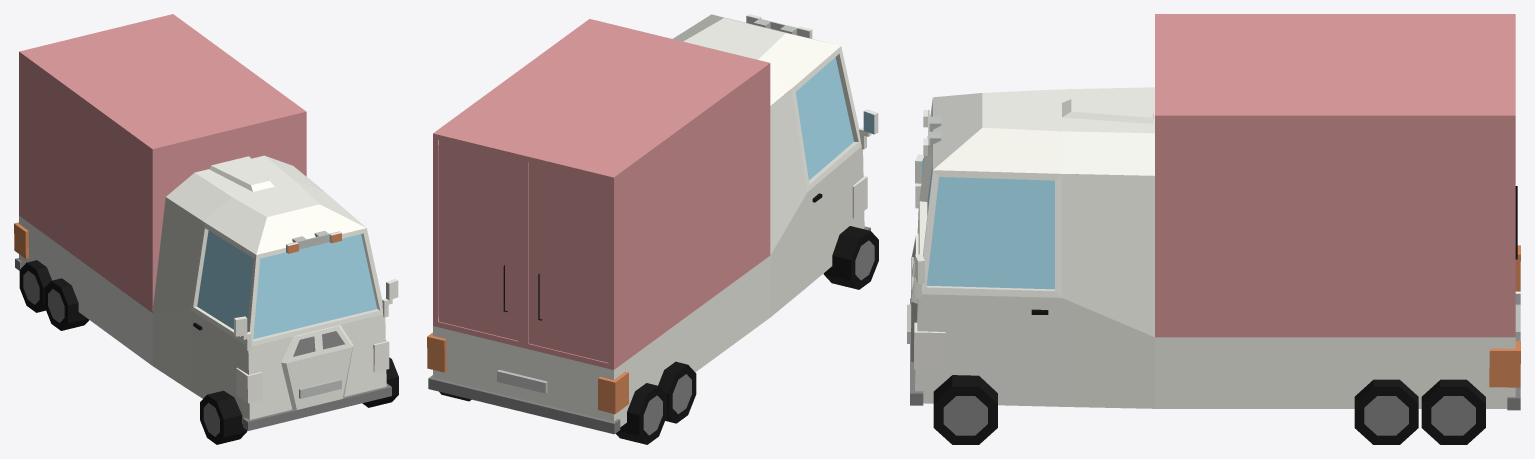
Rendered from truck 1.fbx.
3 renders of one model, left to right at view 1: azimuth 30°, elevation 25°; view 2: azimuth 150°, elevation 25°; view 3: azimuth 270°, elevation 25°, orthographic. The views are drawn at different scales.
Visible parts, largest first — view 1: Cube; view 2: Cube; view 3: Cube.
Part boxes in pixels (bbox=[...]): Cube: bbox=[14, 14, 398, 444]; Cube: bbox=[427, 14, 878, 444]; Cube: bbox=[907, 14, 1520, 444].
Bounding box in the file's own units: 227 × 296 × 510.
